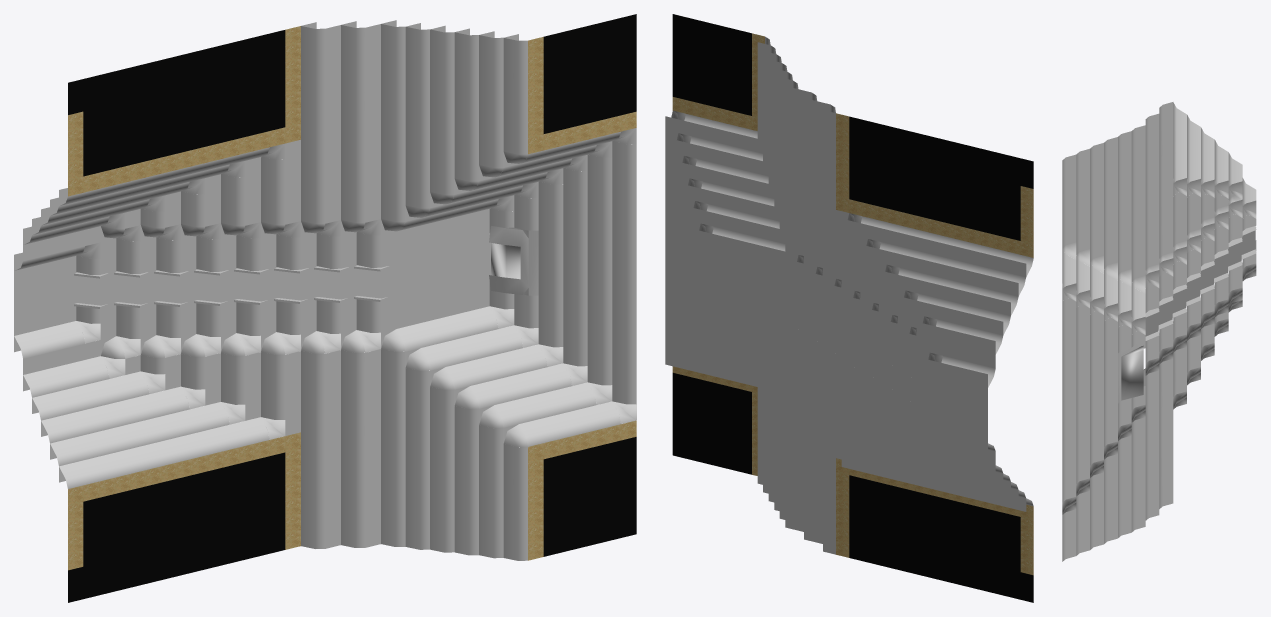
Rendered from Subterranean-Cave-2_03_03.obj.
3 views of the same model, side by side, from view 1: azimuth 30°, elevation 25°; view 2: azimuth 150°, elevation 25°; view 3: azimuth 270°, elevation 25° (orthographic). The views are drawn at different scales.
Visible parts, largest first — view 1: map; view 2: map; view 3: map.
Part boxes in pixels (bbox=[...]): map: bbox=[14, 14, 636, 602]; map: bbox=[665, 14, 1033, 602]; map: bbox=[1062, 102, 1256, 561].
Size of the model in its own units: 32 by 32 by 14.01.
